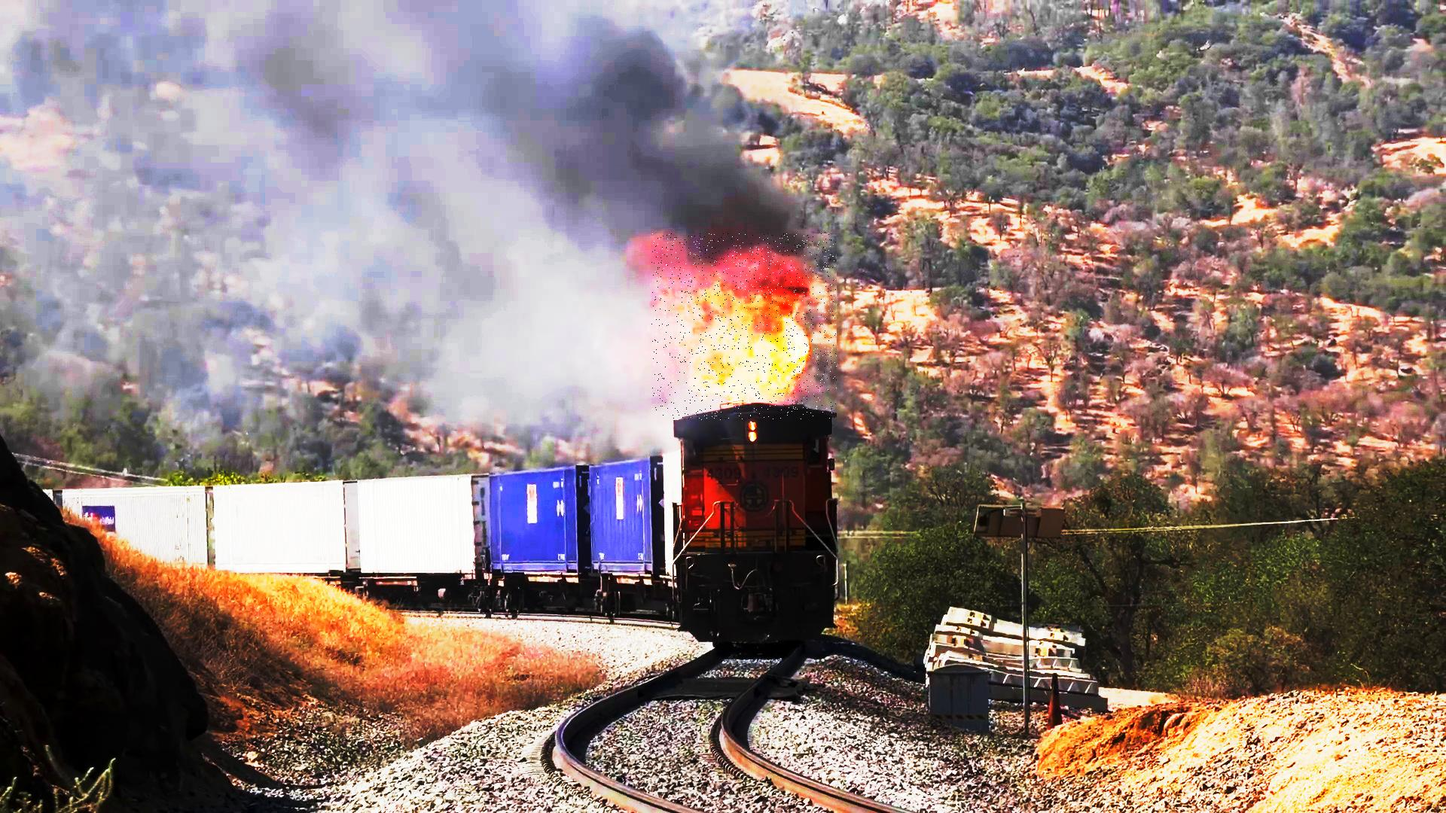fire: (652, 234, 837, 420)
